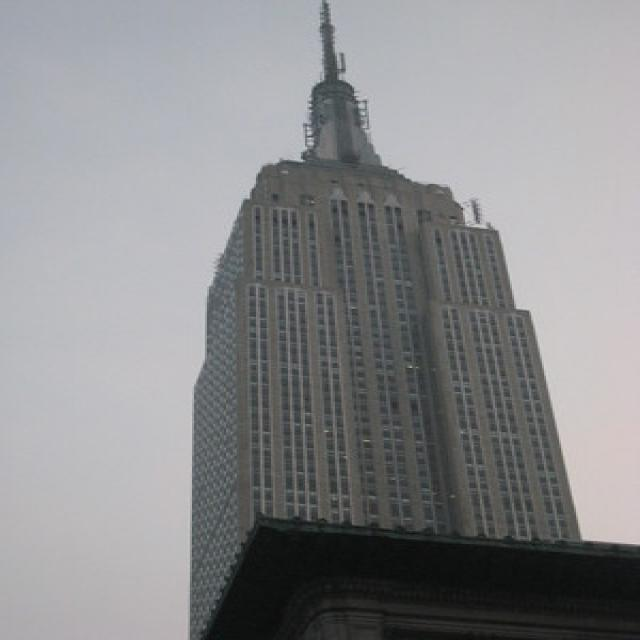Normal_building: (180, 150, 588, 640)
